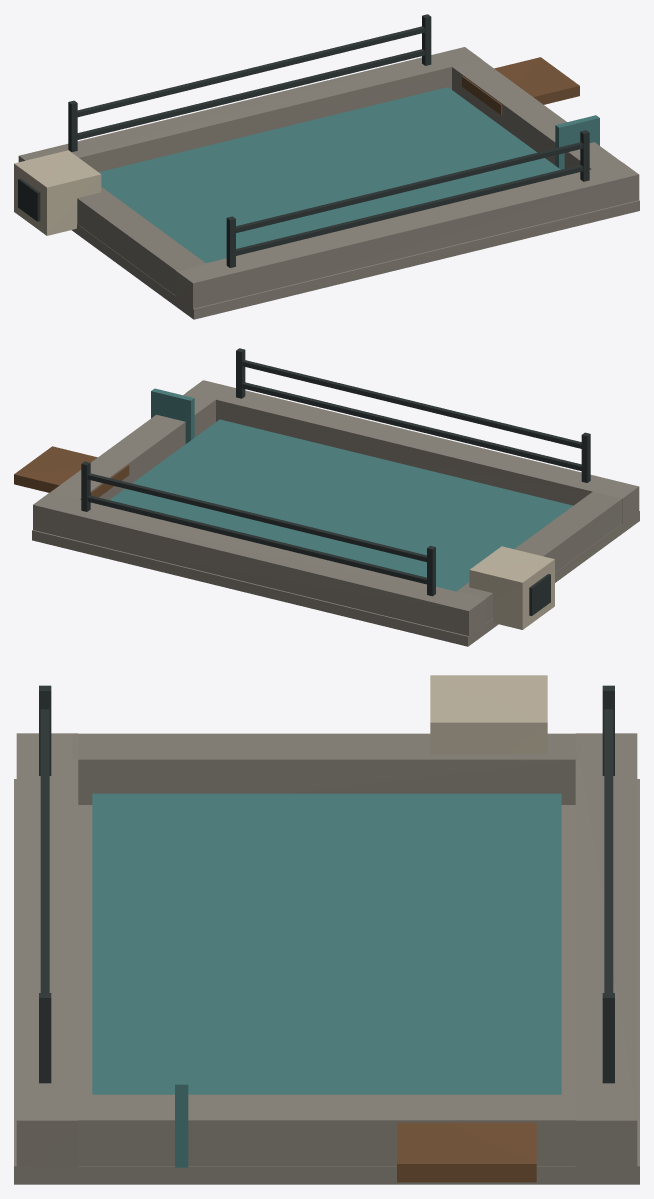
File: shrimp-pond.source.glb
3 renders of one model, top to bottom at view 1: azimuth 30°, elevation 25°; view 2: azimuth 150°, elevation 25°; view 3: azimuth 270°, elevation 25°, orthographic. The views are drawn at different scales.
Parts seen in each view (by area): view 1: shrimp-pond-simple-flat-water-plane-mesh, shrimp-pond-low-long-berm-2.5-mesh, shrimp-pond-low-long-berm--2.5-mesh, shrimp-pond-flat-pond-base-mesh, shrimp-pond-low-short-berm--3.82-mesh, shrimp-pond-low-short-berm-3.82-mesh, shrimp-pond-compact-screened-inlet-box-mesh, shrimp-pond-small-service-platform-mesh, shrimp-pond-long-safety-rail--2.52-1.25-mesh, shrimp-pond-long-safety-rail--2.52-0.85-mesh, shrimp-pond-long-safety-rail-2.52-0.85-mesh, shrimp-pond-long-safety-rail-2.52-1.25-mesh (+6 smaller); view 2: shrimp-pond-simple-flat-water-plane-mesh, shrimp-pond-low-long-berm--2.5-mesh, shrimp-pond-low-long-berm-2.5-mesh, shrimp-pond-flat-pond-base-mesh, shrimp-pond-low-short-berm-3.82-mesh, shrimp-pond-low-short-berm--3.82-mesh, shrimp-pond-compact-screened-inlet-box-mesh, shrimp-pond-long-safety-rail--2.52-0.85-mesh, shrimp-pond-long-safety-rail--2.52-1.25-mesh, shrimp-pond-long-safety-rail-2.52-1.25-mesh, shrimp-pond-long-safety-rail-2.52-0.85-mesh, shrimp-pond-small-service-platform-mesh (+6 smaller); view 3: shrimp-pond-simple-flat-water-plane-mesh, shrimp-pond-low-short-berm-3.82-mesh, shrimp-pond-low-short-berm--3.82-mesh, shrimp-pond-low-long-berm--2.5-mesh, shrimp-pond-low-long-berm-2.5-mesh, shrimp-pond-flat-pond-base-mesh, shrimp-pond-compact-screened-inlet-box-mesh, shrimp-pond-small-service-platform-mesh, shrimp-pond-long-safety-rail--2.52-1.25-mesh, shrimp-pond-long-safety-rail-2.52-1.25-mesh, shrimp-pond-muted-teal-outlet-gate-mesh, shrimp-pond-slim-safety-post-3.25--2.52-mesh (+1 smaller).
Part boxes in pixels (left/top/right/bottom): shrimp-pond-simple-flat-water-plane-mesh: left=99, top=87, right=560, bottom=263; shrimp-pond-low-long-berm-2.5-mesh: left=176, top=162, right=639, bottom=312; shrimp-pond-low-long-berm--2.5-mesh: left=18, top=47, right=481, bottom=172; shrimp-pond-flat-pond-base-mesh: left=71, top=200, right=639, bottom=319; shrimp-pond-low-short-berm--3.82-mesh: left=77, top=187, right=206, bottom=295; shrimp-pond-low-short-berm-3.82-mesh: left=452, top=59, right=622, bottom=169; shrimp-pond-compact-screened-inlet-box-mesh: left=14, top=150, right=101, bottom=235; shrimp-pond-small-service-platform-mesh: left=462, top=57, right=579, bottom=115; shrimp-pond-long-safety-rail--2.52-1.25-mesh: left=77, top=26, right=424, bottom=117; shrimp-pond-long-safety-rail--2.52-0.85-mesh: left=77, top=49, right=424, bottom=139; shrimp-pond-long-safety-rail-2.52-0.85-mesh: left=236, top=165, right=583, bottom=255; shrimp-pond-long-safety-rail-2.52-1.25-mesh: left=236, top=142, right=583, bottom=232; shrimp-pond-simple-flat-water-plane-mesh: left=109, top=419, right=572, bottom=591; shrimp-pond-low-long-berm--2.5-mesh: left=33, top=492, right=485, bottom=637; shrimp-pond-low-long-berm-2.5-mesh: left=186, top=380, right=639, bottom=530; shrimp-pond-flat-pond-base-mesh: left=32, top=511, right=639, bottom=646; shrimp-pond-low-short-berm-3.82-mesh: left=50, top=391, right=216, bottom=499; shrimp-pond-low-short-berm--3.82-mesh: left=456, top=491, right=621, bottom=623; shrimp-pond-compact-screened-inlet-box-mesh: left=469, top=546, right=554, bottom=629; shrimp-pond-long-safety-rail--2.52-0.85-mesh: left=87, top=495, right=426, bottom=584; shrimp-pond-long-safety-rail--2.52-1.25-mesh: left=87, top=473, right=426, bottom=561; shrimp-pond-long-safety-rail-2.52-1.25-mesh: left=242, top=360, right=581, bottom=448; shrimp-pond-long-safety-rail-2.52-0.85-mesh: left=242, top=382, right=581, bottom=470; shrimp-pond-small-service-platform-mesh: left=14, top=446, right=129, bottom=497; shrimp-pond-simple-flat-water-plane-mesh: left=92, top=793, right=561, bottom=1094; shrimp-pond-low-short-berm-3.82-mesh: left=72, top=1094, right=581, bottom=1165; shrimp-pond-low-short-berm--3.82-mesh: left=72, top=733, right=581, bottom=804; shrimp-pond-low-long-berm--2.5-mesh: left=575, top=733, right=637, bottom=1179; shrimp-pond-low-long-berm-2.5-mesh: left=16, top=733, right=78, bottom=1179; shrimp-pond-flat-pond-base-mesh: left=14, top=779, right=639, bottom=1184; shrimp-pond-compact-screened-inlet-box-mesh: left=430, top=675, right=547, bottom=754; shrimp-pond-small-service-platform-mesh: left=397, top=1122, right=536, bottom=1182; shrimp-pond-long-safety-rail--2.52-1.25-mesh: left=604, top=709, right=613, bottom=992; shrimp-pond-long-safety-rail-2.52-1.25-mesh: left=40, top=709, right=49, bottom=992; shrimp-pond-muted-teal-outlet-gate-mesh: left=175, top=1049, right=188, bottom=1167; shrimp-pond-slim-safety-post-3.25--2.52-mesh: left=602, top=993, right=614, bottom=1083.
Size of the model in its own units: 9.68 by 1.47 by 5.6.
